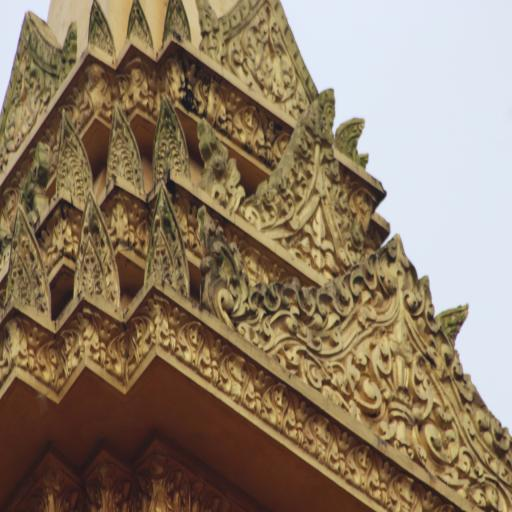la: (231, 2, 301, 100), (162, 50, 206, 111), (298, 405, 336, 464), (175, 318, 214, 374), (234, 94, 268, 154), (348, 434, 379, 496), (260, 374, 292, 434), (218, 345, 252, 399), (80, 61, 109, 124), (201, 71, 229, 128), (124, 55, 154, 108), (386, 467, 421, 512), (2, 318, 26, 382), (46, 205, 71, 266), (111, 198, 139, 250), (145, 301, 171, 355), (98, 311, 118, 375), (42, 332, 63, 390), (124, 314, 144, 374), (78, 318, 98, 368), (63, 320, 79, 382), (24, 325, 42, 376), (336, 423, 349, 484), (271, 114, 289, 158), (250, 366, 264, 422), (377, 450, 391, 503), (169, 298, 179, 362), (295, 391, 306, 446), (213, 330, 223, 390)
